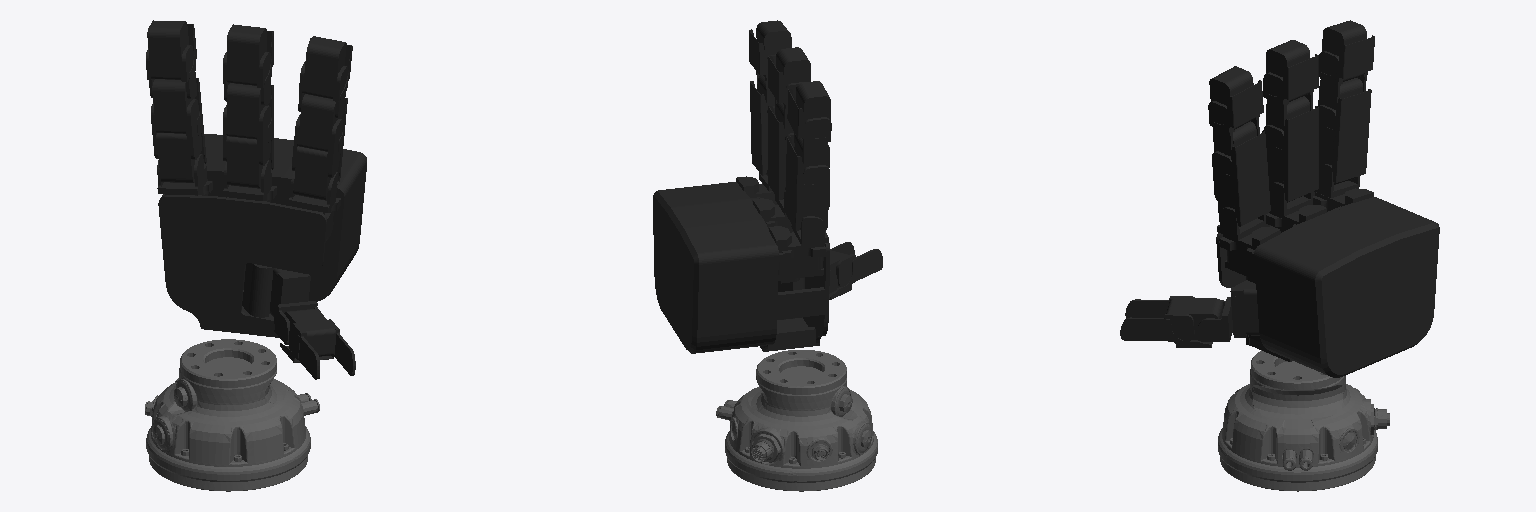
--- What the picture shows (computed from the rendered views, not written in the file) ---
3 views of the same robot in one strip: view 1: azimuth 30°, elevation 25°; view 2: azimuth 150°, elevation 25°; view 3: azimuth 270°, elevation 25° (orthographic).
Model kuka_allegro with 28 links and 27 joints (23 revolute, 4 fixed), rooted at iiwa7_base_link, posed all joints at 0 but 1 set to mid-range because 0 is outside their limits (thumb_joint_0 = 0.925).
Visible links, largest first — view 1: palm_link, iiwa7_link_7, ring_link_1, middle_link_1, index_link_1, thumb_link_2, ring_link_2, middle_link_2, index_link_2, thumb_link_0, middle_link_0, ring_link_0 (+2 smaller); view 2: palm_link, iiwa7_link_7, ring_link_1, ring_link_2, middle_link_2, thumb_link_2, index_link_2, middle_link_1, index_link_1, ring_link_0; view 3: palm_link, iiwa7_link_7, index_link_1, middle_link_1, ring_link_1, thumb_link_2, middle_link_2, ring_link_2, index_link_2, thumb_link_0, thumb_link_1, middle_link_0 (+2 smaller).
Link boxes in pixels (bbox=[...]): palm_link: bbox=[158, 134, 366, 337]; iiwa7_link_7: bbox=[145, 339, 319, 491]; ring_link_1: bbox=[151, 78, 206, 182]; middle_link_1: bbox=[223, 83, 273, 188]; index_link_1: bbox=[292, 94, 347, 200]; thumb_link_2: bbox=[280, 308, 355, 379]; ring_link_2: bbox=[146, 20, 196, 99]; middle_link_2: bbox=[223, 24, 273, 105]; index_link_2: bbox=[298, 36, 352, 118]; thumb_link_0: bbox=[242, 263, 310, 323]; middle_link_0: bbox=[223, 160, 270, 200]; ring_link_0: bbox=[157, 154, 205, 195]; palm_link: bbox=[653, 175, 829, 353]; iiwa7_link_7: bbox=[716, 350, 877, 491]; ring_link_1: bbox=[785, 135, 829, 230]; ring_link_2: bbox=[787, 81, 831, 166]; middle_link_2: bbox=[768, 47, 810, 132]; thumb_link_2: bbox=[829, 242, 882, 299]; index_link_2: bbox=[749, 20, 791, 105]; middle_link_1: bbox=[768, 102, 793, 199]; index_link_1: bbox=[750, 75, 775, 175]; ring_link_0: bbox=[791, 216, 828, 245]; palm_link: bbox=[1216, 184, 1439, 377]; iiwa7_link_7: bbox=[1218, 350, 1389, 491]; index_link_1: bbox=[1212, 121, 1270, 226]; middle_link_1: bbox=[1263, 96, 1318, 202]; ring_link_1: bbox=[1317, 78, 1371, 184]; thumb_link_2: bbox=[1120, 296, 1223, 347]; middle_link_2: bbox=[1263, 40, 1318, 128]; ring_link_2: bbox=[1319, 20, 1374, 108]; index_link_2: bbox=[1208, 66, 1263, 155]; thumb_link_0: bbox=[1230, 280, 1259, 337]; thumb_link_1: bbox=[1197, 297, 1232, 341]; middle_link_0: bbox=[1269, 182, 1312, 215].
Bounding box of the posed robot: 0.165 × 0.2127 × 0.3073 m (x, y, z).
14 mesh visuals loaded from 18 distinct referenced files (8 OBJ); not drawn: 12 (reference not matched to a file when rendering).

URDF robot description (kuka_allegro):
<?xml version="1.0" ?>
<!-- This file was autogenerated but we have modified quite a bit
Authors: Karl, Ankur

Karl did the dynamics compensation and obtained the following values for the index finger

Noise: 0.111576
Masses: 0.005, 0.125164, 0.131691, 0.0211922,
Rotor Inertia: 0.00386572, 0.00346965, 0.00433775, 0.00366413,
Viscous Friction: 0.0414019, 0.00587541, 0.010638, 0.0226948,
Coulomb Friction: 0.0523963, 0.0150275, 0.00616359, 0.0227036,
Mass Inertia:
5.1458e-05, 5.1458e-05, 6.125e-05, 0, 0, 0,
6.39979e-06, 8.88687e-05, 9.13751e-05, -3.26531e-06, 1.23963e-05, 2.07384e-05,
7.04217e-05, 3.95744e-05, 6.61125e-05, -9.64342e-05, 5.8796e-05, -3.62996e-05,
2.93743e-05, 7.21391e-05, 7.59731e-05, -3.51896e-05, -6.31225e-05, -9.25392e-07,

Center of Mass:
0, 0, 0,
0.027, 0, 0,
0.038, 0, 0,
0.029, 0, 0,

-->

<robot name="kuka_allegro" xmlns:xacro="http://www.ros.org/wiki/xacro">
  <material name="Black">
    <color rgba="0.0 0.0 0.0 1.0"/>
  </material>
  <material name="Blue">
    <color rgba="0.0 0.0 0.8 1.0"/>
  </material>
  <material name="Green">
    <color rgba="0.0 0.8 0.0 1.0"/>
  </material>
  <material name="Grey">
    <color rgba="0.4 0.4 0.4 1.0"/>
  </material>
  <material name="Orange">
    <color rgba="1.0 0.423529411765 0.0392156862745 1.0"/>
  </material>
  <material name="Brown">
    <color rgba="0.870588235294 0.811764705882 0.764705882353 1.0"/>
  </material>
  <material name="Red">
    <color rgba="0.8 0.0 0.0 1.0"/>
  </material>
  <material name="White">
    <color rgba="1.0 1.0 1.0 1.0"/>
  </material>
  <link name="iiwa7_base_link"/>
  <!--joint between {parent} and link_0-->
  <joint name="iiwa7_base_link_iiwa7_joint" type="fixed">
    <origin rpy="0 0 0" xyz="0 0 0"/>
    <parent link="iiwa7_base_link"/>
    <child link="iiwa7_link_0"/>
  </joint>
  <link name="iiwa7_link_0">
    <inertial>
      <origin rpy="0 0 0" xyz="-0.1 0 0.07"/>
      <mass value="5"/>
      <inertia ixx="0.05" ixy="0" ixz="0" iyy="0.06" iyz="0" izz="0.03"/>
    </inertial>
    <visual>
      <origin rpy="0 0 0" xyz="0 0 0"/>
      <geometry>
        <mesh filename="kuka_allegro_description/meshes/iiwa7/visual/link_0.obj"/>
      </geometry>
      <material name="Grey"/>
    </visual>
    <collision>
      <origin rpy="0 0 0" xyz="0 0 0"/>
      <geometry>
        <mesh filename="kuka_allegro_description/meshes/iiwa7/collision/link_0.obj"/>
      </geometry>
      <material name="Grey"/>
    </collision>
    <self_collision_checking>
      <origin rpy="0 0 0" xyz="0 0 0"/>
      <geometry>
        <capsule length="0.25" radius="0.15"/>
      </geometry>
    </self_collision_checking>
  </link>
  <!-- joint between link_0 and link_1 -->
  <joint name="iiwa7_joint_1" type="revolute">
    <parent link="iiwa7_link_0"/>
    <child link="iiwa7_link_1"/>
    <origin rpy="0 0 0" xyz="0 0 0.15"/>
    <axis xyz="0 0 1"/>
    <limit effort="300" lower="-2.96705972839" upper="2.96705972839" velocity="10"/>
    <safety_controller k_position="100" k_velocity="2" soft_lower_limit="-2.93215314335" soft_upper_limit="2.93215314335"/>
    <dynamics damping="5.5" friction="0.025"/>
  </joint>
  <link name="iiwa7_link_1">
    <inertial>
      <origin rpy="0 0 0" xyz="0 -0.03 0.12"/>
      <mass value="3.4525"/>
      <inertia ixx="0.02183" ixy="0" ixz="0" iyy="0.007703" iyz="-0.003887" izz="0.02083"/>
    </inertial>
    <visual>
      <origin rpy="0 0 0" xyz="0 0 0.0075"/>
      <geometry>
        <mesh filename="kuka_allegro_description/meshes/iiwa7/visual/link_1.obj"/>
      </geometry>
      <material name="Orange"/>
    </visual>
    <collision>
      <origin rpy="0 0 0" xyz="0 0 0.0075"/>
      <geometry>
        <mesh filename="kuka_allegro_description/meshes/iiwa7/collision/link_1.obj"/>
      </geometry>
      <material name="Orange"/>
    </collision>
  </link>
  <joint name="iiwa7_joint_2" type="revolute">
    <parent link="iiwa7_link_1"/>
    <child link="iiwa7_link_2"/>
    <origin rpy="1.57079632679   0 3.14159265359" xyz="0 0 0.19"/>
    <axis xyz="0 0 1"/>
    <limit effort="300" lower="-2.09439510239" upper="2.09439510239" velocity="10"/>
    <safety_controller k_position="100" k_velocity="2" soft_lower_limit="-2.05948851735" soft_upper_limit="2.05948851735"/>
    <dynamics damping="5.55" friction="0.025"/>
  </joint>
  <link name="iiwa7_link_2">
    <inertial>
      <origin rpy="0 0 0" xyz="0.0003 0.059 0.042"/>
      <mass value="3.4821"/>
      <inertia ixx="0.02076" ixy="0" ixz="-0.003626" iyy="0.02179" iyz="0" izz="0.00779"/>
    </inertial>
    <visual>
      <origin rpy="0 0 0" xyz="0 0 0"/>
      <geometry>
        <mesh filename="kuka_allegro_description/meshes/iiwa7/visual/link_2.obj"/>
      </geometry>
      <material name="Orange"/>
    </visual>
    <collision>
      <origin rpy="0 0 0" xyz="0 0 0"/>
      <geometry>
        <mesh filename="kuka_allegro_description/meshes/iiwa7/collision/link_2.obj"/>
      </geometry>
      <material name="Orange"/>
    </collision>
  </link>
  <joint name="iiwa7_joint_3" type="revolute">
    <parent link="iiwa7_link_2"/>
    <child link="iiwa7_link_3"/>
    <origin rpy="1.57079632679 0 3.14159265359" xyz="0 0.21 0"/>
    <axis xyz="0 0 1"/>
    <limit effort="300" lower="-2.96705972839" upper="2.96705972839" velocity="10"/>
    <safety_controller k_position="100" k_velocity="2" soft_lower_limit="-2.93215314335" soft_upper_limit="2.93215314335"/>
    <dynamics damping="5.5" friction="0.025"/>
  </joint>
  <link name="iiwa7_link_3">
    <inertial>
      <origin rpy="0 0 0" xyz="0 0.03 0.13"/>
      <mass value="4.05623"/>
      <inertia ixx="0.03204" ixy="0" ixz="0" iyy="0.00972" iyz="0.006227" izz="0.03042"/>
    </inertial>
    <visual>
      <origin rpy="0 0 0" xyz="0 0 -0.026"/>
      <geometry>
        <mesh filename="kuka_allegro_description/meshes/iiwa7/visual/link_3.obj"/>
      </geometry>
      <material name="Orange"/>
    </visual>
    <collision>
      <origin rpy="0 0 0" xyz="0 0 -0.026"/>
      <geometry>
        <mesh filename="kuka_allegro_description/meshes/iiwa7/collision/link_3.obj"/>
      </geometry>
      <material name="Orange"/>
    </collision>
  </link>
  <joint name="iiwa7_joint_4" type="revolute">
    <parent link="iiwa7_link_3"/>
    <child link="iiwa7_link_4"/>
    <origin rpy="1.57079632679 0 0" xyz="0 0 0.19"/>
    <axis xyz="0 0 1"/>
    <limit effort="300" lower="-2.09439510239" upper="2.09439510239" velocity="10"/>
    <safety_controller k_position="100" k_velocity="2" soft_lower_limit="-2.05948851735" soft_upper_limit="2.05948851735"/>
    <dynamics damping="5.5" friction="0.025"/>
  </joint>
  <link name="iiwa7_link_4">
    <inertial>
      <origin rpy="0 0 0" xyz="0 0.067 0.034"/>
      <mass value="3.4822"/>
      <inertia ixx="0.02178" ixy="0" ixz="0" iyy="0.02075" iyz="-0.003625" izz="0.007785"/>
    </inertial>
    <visual>
      <origin rpy="0 0 0" xyz="0 0 0"/>
      <geometry>
        <mesh filename="kuka_allegro_description/meshes/iiwa7/visual/link_4.obj"/>
      </geometry>
      <material name="Orange"/>
    </visual>
    <collision>
      <origin rpy="0 0 0" xyz="0 0 0"/>
      <geometry>
        <mesh filename="kuka_allegro_description/meshes/iiwa7/collision/link_4.obj"/>
      </geometry>
      <material name="Orange"/>
    </collision>
  </link>
  <joint name="iiwa7_joint_5" type="revolute">
    <parent link="iiwa7_link_4"/>
    <child link="iiwa7_link_5"/>
    <origin rpy="-1.57079632679 3.14159265359 0" xyz="0 0.21 0"/>
    <axis xyz="0 0 1"/>
    <limit effort="300" lower="-2.96705972839" upper="2.96705972839" velocity="10"/>
    <safety_controller k_position="100" k_velocity="2" soft_lower_limit="-2.93215314335" soft_upper_limit="2.93215314335"/>
    <dynamics damping="5.5" friction="0.025"/>
  </joint>
  <link name="iiwa7_link_5">
    <inertial>
      <origin rpy="0 0 0" xyz="0.0001 0.021 0.076"/>
      <mass value="2.1633"/>
      <inertia ixx="0.01287" ixy="0" ixz="0" iyy="0.005708" iyz="-0.003946" izz="0.01112"/>
    </inertial>
    <visual>
      <origin rpy="0 0 0" xyz="0 0 -0.026"/>
      <geometry>
        <mesh filename="kuka_allegro_description/meshes/iiwa7/visual/link_5.obj"/>
      </geometry>
      <material name="Orange"/>
    </visual>
    <collision>
      <origin rpy="0 0 0" xyz="0 0 -0.026"/>
      <geometry>
        <mesh filename="kuka_allegro_description/meshes/iiwa7/collision/link_5.obj"/>
      </geometry>
      <material name="Orange"/>
    </collision>
  </link>
  <joint name="iiwa7_joint_6" type="revolute">
    <parent link="iiwa7_link_5"/>
    <child link="iiwa7_link_6"/>
    <origin rpy="1.57079632679 0 0" xyz="0 0.06070 0.19"/>
    <axis xyz="0 0 1"/>
    <limit effort="300" lower="-2.09439510239" upper="2.09439510239" velocity="10"/>
    <safety_controller k_position="100" k_velocity="2" soft_lower_limit="-2.05948851735" soft_upper_limit="2.05948851735"/>
    <dynamics damping="0.5" friction="0.025"/>
  </joint>
  <link name="iiwa7_link_6">
    <inertial>
      <origin rpy="0 0 0" xyz="0 0.0006 0.0004"/>
      <mass value="2.3466"/>
      <inertia ixx="0.006509" ixy="0" ixz="0" iyy="0.006259" iyz="0.00031891" izz="0.004527"/>
    </inertial>
    <visual>
      <origin rpy="0 0 0" xyz="0 0 0"/>
      <geometry>
        <mesh filename="kuka_allegro_description/meshes/iiwa7/visual/link_6.obj"/>
      </geometry>
      <material name="Orange"/>
    </visual>
    <collision>
      <origin rpy="0 0 0" xyz="0 0 0"/>
      <geometry>
        <mesh filename="kuka_allegro_description/meshes/iiwa7/collision/link_6.obj"/>
      </geometry>
      <material name="Orange"/>
    </collision>
  </link>
  <joint name="iiwa7_joint_7" type="revolute">
    <parent link="iiwa7_link_6"/>
    <child link="iiwa7_link_7"/>
    <origin rpy="-1.57079632679 3.14159265359 0" xyz="0 0.081 0.06070"/>
    <axis xyz="0 0 1"/>
    <limit effort="300" lower="-3.05432619099" upper="3.05432619099" velocity="10"/>
    <safety_controller k_position="100" k_velocity="2" soft_lower_limit="-3.01941960595" soft_upper_limit="3.01941960595"/>
    <dynamics damping="5.5" friction="0.025"/>
  </joint>
  <link name="iiwa7_link_7">
    <inertial>
      <origin rpy="0 0 0" xyz="0 0 0.02"/>
      <mass value="3.129"/>
      <inertia ixx="0.01464" ixy="0.0005912" ixz="0" iyy="0.01465" iyz="0" izz="0.002872"/>
    </inertial>
    <visual>
      <origin rpy="0 0 0" xyz="0 0 -0.0005"/>
      <geometry>
        <mesh filename="kuka_allegro_description/meshes/iiwa7/visual/link_7.obj"/>
      </geometry>
      <material name="Grey"/>
    </visual>
    <collision>
      <origin rpy="0 0 0" xyz="0 0 -0.0005"/>
      <geometry>
        <mesh filename="kuka_allegro_description/meshes/iiwa7/collision/link_7.obj"/>
      </geometry>
      <material name="Grey"/>
    </collision>
  </link>
  <joint name="iiwa7_joint_ee" type="fixed">
    <parent link="iiwa7_link_7"/>
    <child link="iiwa7_link_ee"/>
    <origin rpy="0 0 0" xyz="0 0 0.071"/>
    <dynamics damping="5.5" friction="0.025"/>
  </joint>
  <link name="iiwa7_link_ee">
    <inertial>
      <origin rpy="0 0 0" xyz="0 0 0.0"/>
      <mass value="0.1"/>
      <inertia ixx="1e-3" ixy="0.0" ixz="0" iyy="1e-3" iyz="0" izz="1e-3"/>
    </inertial>
  </link>

  <!-- Load Gazebo lib and set the robot namespace -->
  <!-- <gazebo>
      <plugin name="gazebo_ros_control" filename="libgazebo_ros_control.so">
        <robotNamespace>/${robot_name}</robotNamespace>
      </plugin>
    </gazebo> -->
  <!-- Link0 -->
  <gazebo reference="iiwa7_link_0">
    <material>Gazebo/Grey</material>
    <mu1>0.2</mu1>
    <mu2>0.2</mu2>
  </gazebo>
  <!-- Link1 -->
  <gazebo reference="iiwa7_link_1">
    <material>Gazebo/Orange</material>
    <mu1>0.2</mu1>
    <mu2>0.2</mu2>
  </gazebo>
  <!-- Link2 -->
  <gazebo reference="iiwa7_link_2">
    <material>Gazebo/Orange</material>
    <mu1>0.2</mu1>
    <mu2>0.2</mu2>
  </gazebo>
  <!-- Link3 -->
  <gazebo reference="iiwa7_link_3">
    <material>Gazebo/Orange</material>
    <mu1>0.2</mu1>
    <mu2>0.2</mu2>
  </gazebo>
  <!-- Link4 -->
  <gazebo reference="iiwa7_link_4">
    <material>Gazebo/Orange</material>
    <mu1>0.2</mu1>
    <mu2>0.2</mu2>
  </gazebo>
  <!-- Link5 -->
  <gazebo reference="iiwa7_link_5">
    <material>Gazebo/Orange</material>
    <mu1>0.2</mu1>
    <mu2>0.2</mu2>
  </gazebo>
  <!-- Link6 -->
  <gazebo reference="iiwa7_link_6">
    <material>Gazebo/Orange</material>
    <mu1>0.2</mu1>
    <mu2>0.2</mu2>
  </gazebo>
  <!-- Link7 -->
  <gazebo reference="iiwa7_link_7">
    <material>Gazebo/Grey</material>
    <mu1>0.2</mu1>
    <mu2>0.2</mu2>
  </gazebo>
  <transmission name="iiwa7_tran_1">
    <robotNamespace>/iiwa7</robotNamespace>
    <type>transmission_interface/SimpleTransmission</type>
    <joint name="iiwa7_joint_1">
      <hardwareInterface>PositionJointInterface</hardwareInterface>
    </joint>
    <actuator name="iiwa7_motor_1">
      <hardwareInterface>PositionJointInterface</hardwareInterface>
      <mechanicalReduction>1</mechanicalReduction>
    </actuator>
  </transmission>
  <transmission name="iiwa7_tran_2">
    <robotNamespace>/iiwa7</robotNamespace>
    <type>transmission_interface/SimpleTransmission</type>
    <joint name="iiwa7_joint_2">
      <hardwareInterface>PositionJointInterface</hardwareInterface>
    </joint>
    <actuator name="iiwa7_motor_2">
      <hardwareInterface>PositionJointInterface</hardwareInterface>
      <mechanicalReduction>1</mechanicalReduction>
    </actuator>
  </transmission>
  <transmission name="iiwa7_tran_3">
    <robotNamespace>/iiwa7</robotNamespace>
    <type>transmission_interface/SimpleTransmission</type>
    <joint name="iiwa7_joint_3">
      <hardwareInterface>PositionJointInterface</hardwareInterface>
    </joint>
    <actuator name="iiwa7_motor_3">
      <hardwareInterface>PositionJointInterface</hardwareInterface>
      <mechanicalReduction>1</mechanicalReduction>
    </actuator>
  </transmission>
  <transmission name="iiwa7_tran_4">
    <robotNamespace>/iiwa7</robotNamespace>
    <type>transmission_interface/SimpleTransmission</type>
    <joint name="iiwa7_joint_4">
      <hardwareInterface>PositionJointInterface</hardwareInterface>
    </joint>
    <actuator name="iiwa7_motor_4">
      <hardwareInterface>PositionJointInterface</hardwareInterface>
      <mechanicalReduction>1</mechanicalReduction>
    </actuator>
  </transmission>
  <transmission name="iiwa7_tran_5">
    <robotNamespace>/iiwa7</robotNamespace>
    <type>transmission_interface/SimpleTransmission</type>
    <joint name="iiwa7_joint_5">
      <hardwareInterface>PositionJointInterface</hardwareInterface>
    </joint>
    <actuator name="iiwa7_motor_5">
      <hardwareInterface>PositionJointInterface</hardwareInterface>
      <mechanicalReduction>1</mechanicalReduction>
    </actuator>
  </transmission>
  <transmission name="iiwa7_tran_6">
    <robotNamespace>/iiwa7</robotNamespace>
    <type>transmission_interface/SimpleTransmission</type>
    <joint name="iiwa7_joint_6">
      <hardwareInterface>PositionJointInterface</hardwareInterface>
    </joint>
    <actuator name="iiwa7_motor_6">
      <hardwareInterface>PositionJointInterface</hardwareInterface>
      <mechanicalReduction>1</mechanicalReduction>
    </actuator>
  </transmission>
  <transmission name="iiwa7_tran_7">
    <robotNamespace>/iiwa7</robotNamespace>
    <type>transmission_interface/SimpleTransmission</type>
    <joint name="iiwa7_joint_7">
      <hardwareInterface>PositionJointInterface</hardwareInterface>
    </joint>
    <actuator name="iiwa7_motor_7">
      <hardwareInterface>PositionJointInterface</hardwareInterface>
      <mechanicalReduction>1</mechanicalReduction>
    </actuator>
  </transmission>
  <!-- ======================== BASE PARAMS ========================= -->
  <!-- ======================== FINGER PARAMS ======================== -->
  <!-- full height from joint to tip. when used,
       the radius of the finger tip sphere will be subtracted
       and one fixed link will be added for the tip. -->
  <!-- ========================= THUMB PARAMS ========================= -->
  <!-- ========================= LIMITS ========================= -->
  <!-- ============================================================================= -->
  <!-- BASE -->

  <link name="allegro_mount">
    <inertial>
      <mass value="0.05"/>
      <origin rpy="0 0 0" xyz="0 0 0"/>
      <inertia ixx="1e-4" ixy="0" ixz="0" iyy="1e-4" iyz="0" izz="1e-4"/>
    </inertial>
    <visual>
      <!-- <origin xyz="-0.0425 -0.0425 0" rpy="0 0 0" /> -->
      <origin rpy="0 0 0" xyz="0 0 0"/>
      <geometry>
        <mesh filename="kuka_allegro_description/meshes/mounts/allegro_mount.obj"/>
      </geometry>
      <material name="color_j7"/>
    </visual>
    <collision>
      <!-- <origin xyz="-0.0425 -0.0425 0" rpy="0 0 0" /> -->
      <origin rpy="0 0 0" xyz="0 0 0"/>
      <geometry>
        <mesh filename="kuka_allegro_description/meshes/mounts/allegro_mount.obj"/>
      </geometry>
    </collision>
  </link>
  <!-- <joint name="allegro_mount_joint1" type="fixed">

    <origin rpy="0 0 0" xyz="-0.00 -0.0 0.0"/>
    <parent link="iiwa7_link_ee"/>
    <child link="allegro_mount"/>

  </joint> -->
  <joint name="allegro_mount_joint" type="fixed">
    <!-- <origin xyz="0.065 0 0.0275" rpy="0 1.57 0" /> -->
    <origin rpy="0 -1.5708 0.785398" xyz="0.008219 -0.02063 0.08086"/>
    <parent link="allegro_mount"/>
    <child link="palm_link"/>

  </joint>

  <!-- BASE -->
  <link name="palm_link">
    <inertial>
      <mass value="0.4154"/>
      <origin rpy="0 0 0" xyz="0 0 0"/>
      <inertia ixx="1e-4" ixy="0" ixz="0" iyy="1e-4" iyz="0" izz="1e-4"/>
    </inertial>
    <visual>
      <geometry>
        <mesh filename="kuka_allegro_description/meshes/allegro/base_link.obj"/>
      </geometry>
      <origin rpy="0 0 0" xyz="0 0 0 "/>
      <material name="Grey">
        <color rgba="0.2 0.2 0.2 1"/>
      </material>
    </visual>
    <collision>
      <origin rpy="0.0 0 0" xyz="0 0 0"/>
      <geometry>
        <mesh filename="kuka_allegro_description/meshes/allegro/base_link.obj"/>
      </geometry>
    </collision>
  </link>
  <gazebo reference="palm_link">
    <material value="Gazebo/Grey"/>
  </gazebo>
  <!-- ============================================================================= -->
  <!-- FINGERS -->
  <!-- RIGHT HAND due to which finger is number 0 -->
  <!-- for LEFT HAND switch the sign of the **offset_origin_y** and **finger_angle_r** parameters-->
  <!-- [LINK 0, 4, 8] -->
  <link name="index_link_0">
    <collision>
      <geometry>
        <mesh filename="kuka_allegro_description/meshes/allegro/primary_base.obj"/>
      </geometry>
    </collision>
    <inertial>
      <mass value="0.005"/>
      <origin xyz="0 0 0"/>
      <inertia ixx="5.1458e-05" iyy="5.1458e-05" izz="6.125e-05" ixy="0" ixz="0" iyz="0"/>
    </inertial>
    <visual>
      <geometry>
        <mesh filename="kuka_allegro_description/meshes/allegro/primary_base.obj"/>
      </geometry>
      <material name="Grey">
        <color rgba="0.2 0.2 0.2 1"/>
      </material>
    </visual>
  </link>
  <link name="index_link_1">
    <collision>
      <geometry>
        <mesh filename="kuka_allegro_description/meshes/allegro/primary_proximal.obj"/>
      </geometry>
    </collision>
    <inertial>
      <mass value="0.125164"/>
      <origin xyz="0.027 0 0"/>
      <inertia ixx="6.39979e-06" iyy="8.88687e-05" izz="9.13751e-05" ixy="-3.26531e-06" ixz="1.23963e-05" iyz="2.07384e-05"/>
    </inertial>
    <visual>
      <geometry>
        <mesh filename="kuka_allegro_description/meshes/allegro/primary_proximal.obj"/>
      </geometry>
      <material name="Grey">
        <color rgba="0.2 0.2 0.2 1"/>
      </material>
    </visual>
  </link>
  <link name="index_link_2">
    <collision>
      <geometry>
        <mesh filename="kuka_allegro_description/meshes/allegro/primary_medial.obj"/>
      </geometry>
    </collision>
    <inertial>
      <mass value="0.131691"/>
      <origin xyz="0.039 0 0"/>
      <inertia ixx="7.04217e-05" iyy="3.95744e-05" izz="6.61125e-05" ixy="-9.64342e-05" ixz="5.8796e-05" iyz="-3.62996e-05"/>
    </inertial>
    <visual>
      <geometry>
        <mesh filename="kuka_allegro_description/meshes/allegro/primary_medial.obj"/>
      </geometry>
      <material name="Grey">
        <color rgba="0.2 0.2 0.2 1"/>
      </material>
    </visual>
  </link>
  <link name="index_link_3">
    <collision>
      <geometry>
        <mesh filename="meshes/touchsensor/collision/touch_sensor_base.obj"/>
      </geometry>
    </collision>
    <inertial>
      <mass value="0.0211922"/>
      <origin xyz="0.029 0 0"/>
      <inertia ixx="2.93743e-05" iyy="7.21391e-05" izz="7.59731e-05" ixy="-3.51896e-05" ixz="-6.31225e-05" iyz="-9.25392e-07"/>
    </inertial>
    <visual>
      <geometry>
        <mesh filename="meshes/touchsensor/visual/touch_sensor_base.obj"/>
      </geometry>
      <material name="Green">
        <color rgba="0. 0.5 0. 1"/>
      </material>
    </visual>
  </link>
  <link name="middle_link_0">
    <collision>
      <geometry>
        <mesh filename="kuka_allegro_description/meshes/allegro/primary_base.obj"/>
      </geometry>
    </collision>
    <inertial>
      <mass value="0.005"/>
      <origin xyz="0 0 0"/>
      <inertia ixx="5.1458e-05" iyy="5.1458e-05" izz="6.125e-05" ixy="0" ixz="0" iyz="0"/>
    </inertial>
    <visual>
      <geometry>
        <mesh filename="kuka_allegro_description/meshes/allegro/primary_base.obj"/>
      </geometry>
      <material name="Grey">
        <color rgba="0.2 0.2 0.2 1"/>
      </material>
    </visual>
  </link>
  <link name="middle_link_1">
    <collision>
      <geometry>
        <mesh filename="kuka_allegro_description/meshes/allegro/primary_proximal.obj"/>
      </geometry>
    </collision>
    <inertial>
      <mass value="0.125164"/>
      <origin xyz="0.027 0 0"/>
      <inertia ixx="6.39979e-06" iyy="8.88687e-05" izz="9.13751e-05" ixy="-3.26531e-06" ixz="1.23963e-05" iyz="2.07384e-05"/>
    </inertial>
    <visual>
      <geometry>
        <mesh filename="kuka_allegro_description/meshes/allegro/primary_proximal.obj"/>
      </geometry>
      <material name="Grey">
        <color rgba="0.2 0.2 0.2 1"/>
      </material>
    </visual>
  </link>
  <link name="middle_link_2">
    <collision>
      <geometry>
        <mesh filename="kuka_allegro_description/meshes/allegro/primary_medial.obj"/>
      </geometry>
    </collision>
    <inertial>
      <mass value="0.131691"/>
      <origin xyz="0.039 0 0"/>
      <inertia ixx="7.04217e-05" iyy="3.95744e-05" izz="6.61125e-05" ixy="-9.64342e-05" ixz="5.8796e-05" iyz="-3.62996e-05"/>
    </inertial>
    <visual>
      <geometry>
        <mesh filename="kuka_allegro_description/meshes/allegro/primary_medial.obj"/>
      </geometry>
      <material name="Grey">
        <color rgba="0.2 0.2 0.2 1"/>
      </material>
    </visual>
  </link>
  <link name="middle_link_3">
    <collision>
      <geometry>
        <mesh filename="meshes/touchsensor/collision/touch_sensor_base.obj"/>
      </geometry>
    </collision>
    <inertial>
      <mass value="0.0211922"/>
      <origin xyz="0.029 0 0"/>
      <inertia ixx="2.93743e-05" iyy="7.21391e-05" izz="7.59731e-05" ixy="-3.51896e-05" ixz="-6.31225e-05" iyz="-9.25392e-07"/>
    </inertial>
    <visual>
      <geometry>
        <mesh filename="meshes/touchsensor/visual/touch_sensor_base.obj"/>
      </geometry>
      <material name="Green">
        <color rgba="0 0.5 0 1"/>
      </material>
    </visual>
  </link>
  <link name="ring_link_0">
    <collision>
      <geometry>
        <mesh filename="kuka_allegro_description/meshes/allegro/primary_base.obj"/>
      </geometry>
    </collision>
    <inertial>
      <mass value="0.005"/>
      <origin xyz="0 0 0"/>
      <inertia ixx="5.1458e-05" iyy="5.1458e-05" izz="6.125e-05" ixy="0" ixz="0" iyz="0"/>
    </inertial>
    <visual>
      <geometry>
        <mesh filename="kuka_allegro_description/meshes/allegro/primary_base.obj"/>
      </geometry>
      <material name="Grey">
        <color rgba="0.2 0.2 0.2 1"/>
      </material>
    </visual>
  </link>
  <link name="ring_link_1">
    <collision>
      <geometry>
        <mesh filename="kuka_allegro_description/meshes/allegro/primary_proximal.obj"/>
      </geometry>
    </collision>
    <inertial>
      <mass value="0.125164"/>
      <origin xyz="0.027 0 0"/>
      <inertia ixx="6.39979e-06" iyy="8.88687e-05" izz="9.13751e-05" ixy="-3.26531e-06" ixz="1.23963e-05" iyz="2.07384e-05"/>
    </inertial>
    <visual>
      <geometry>
        <mesh filename="kuka_allegro_description/meshes/allegro/primary_proximal.obj"/>
      </geometry>
      <material name="Grey">
        <color rgba="0.2 0.2 0.2 1"/>
      </material>
    </visual>
  </link>
  <link name="ring_link_2">
    <collision>
      <geometry>
        <mesh filename="kuka_allegro_description/meshes/allegro/primary_medial.obj"/>
      </geometry>
    </collision>
    <inertial>
      <mass value="0.131691"/>
      <origin xyz="0.039 0 0"/>
      <inertia ixx="7.04217e-05" iyy="3.95744e-05" izz="6.61125e-05" ixy="-9.64342e-05" ixz="5.8796e-05" iyz="-3.62996e-05"/>
    </inertial>
    <visual>
      <geometry>
        <mesh filename="kuka_allegro_description/meshes/allegro/primary_medial.obj"/>
      </geometry>
      <material name="Grey">
        <color rgba="0.2 0.2 0.2 1"/>
      </material>
    </visual>
  </link>
  <link name="ring_link_3">
    <collision>
      <geometry>
        <mesh filename="meshes/touchsensor/collision/touch_sensor_base.obj"/>
      </geometry>
    </collision>
    <inertial>
      <mass value="0.0211922"/>
      <origin xyz="0.029 0 0"/>
      <inertia ixx="2.93743e-05" iyy="7.21391e-05" izz="7.59731e-05" ixy="-3.51896e-05" ixz="-6.31225e-05" iyz="-9.25392e-07"/>
    </inertial>
    <visual>
      <geometry>
        <mesh filename="meshes/touchsensor/visual/touch_sensor_base.obj"/>
      </geometry>
      <material name="Green">
        <color rgba="0 0.5 0 1"/>
      </material>
    </visual>
  </link>
  <link name="thumb_link_0">
    <collision>
      <geometry>
        <mesh filename="kuka_allegro_description/meshes/allegro/thumb_base.obj"/>
      </geometry>
    </collision>
    <inertial>
      <mass value="0.1"/>
      <inertia ixx="5.1458e-5" ixy="0" ixz="0" iyy="5.1458e-5" iyz="0" izz="6.125e-5"/>
    </inertial>
    <visual>
      <geometry>
        <mesh filename="kuka_allegro_description/meshes/allegro/thumb_base.obj"/>
      </geometry>
      <material name="Grey">
        <color rgba="0.2 0.2 0.2 1"/>
      </material>
    </visual>
  </link>
  <link name="thumb_link_1">
    <collision>
      <geometry>
        <mesh filename="kuka_allegro_description/meshes/allegro/thumb_proximal.obj"/>
      </geometry>
    </collision>
    <inertial>
      <mass value="0.1"/>
      <inertia ixx="5.1458e-5" ixy="0" ixz="0" iyy="5.1458e-5" iyz="0" izz="6.125e-5"/>
    </inertial>
    <visual>
      <geometry>
        <mesh filename="kuka_allegro_description/meshes/allegro/thumb_proximal.obj"/>
      </geometry>
      <material name="Grey">
        <color rgba="0.2 0.2 0.2 1"/>
      </material>
    </visual>
  </link>
  <link name="thumb_link_2">
    <collision>
      <geometry>
        <mesh filename="kuka_allegro_description/meshes/allegro/thumb_medial.obj"/>
      </geometry>
    </collision>
    <inertial>
      <mass value="0.1"/>
      <inertia ixx="5.1458e-5" ixy="0" ixz="0" iyy="5.1458e-5" iyz="0" izz="6.125e-5"/>
    </inertial>
    <visual>
      <geometry>
        <mesh filename="kuka_allegro_description/meshes/allegro/thumb_medial.obj"/>
      </geometry>
      <material name="Grey">
        <color rgba="0.2 0.2 0.2 1"/>
      </material>
    </visual>
  </link>
  <link name="thumb_link_3">
    <collision>
      <geometry>
        <mesh filename="meshes/touchsensor/collision/touch_sensor_thumb_base.obj"/>
      </geometry>
    </collision>
    <inertial>
      <mass value="0.1"/>
      <inertia ixx="5.1458e-5" ixy="0" ixz="0" iyy="5.1458e-5" iyz="0" izz="6.125e-5"/>
    </inertial>
    <visual>
      <geometry>
        <mesh filename="meshes/touchsensor/visual/touch_sensor_thumb_base.obj"/>
      </geometry>
      <material name="Green">
        <color rgba="0 0.5 0 1"/>
      </material>
    </visual>
  </link>
  <joint name="index_joint_0" type="revolute">
    <axis xyz="0 0 1"/>
    <limit effort="0.35" lower="-0.558488888889" upper="0.558488888889" velocity="6.283"/>
    <origin rpy="3.1415 -1.57075 -0.0872638888889" xyz="0.0514302 -0.03632 -0.0113"/>
    <parent link="palm_link"/>
    <child link="index_link_0"/>
    <dynamics damping="0.0414019" friction="0.0523963"/>
  </joint>
  <joint name="index_joint_1" type="revolute">
    <axis xyz="0 0 1"/>
    <limit effort="0.35" lower="-0.279244444444" upper="1.727825" velocity="6.283"/>
    <origin rpy="3.1415 -1.57075 1.57075" xyz="0.0 0.0 0.0"/>
    <parent link="index_link_0"/>
    <child link="index_link_1"/>
    <dynamics damping="0.00587541" friction="0.0150275"/>
  </joint>
  <joint name="index_joint_2" type="revolute">
    <axis xyz="0 0 1"/>
    <limit effort="0.35" lower="-0.279244444444" upper="1.727825" velocity="6.283"/>
    <origin rpy="0.0 0.0 0.0" xyz="0.054 0.0 0.0"/>
    <parent link="index_link_1"/>
    <child link="index_link_2"/>
    <dynamics damping="0.010638" friction="0.00616359"/>
  </joint>
  <joint name="index_joint_3" type="revolute">
    <axis xyz="0 0 1"/>
    <limit effort="0.35" lower="-0.279244444444" upper="1.727825" velocity="6.283"/>
    <origin rpy="0.0 0.0 0.0" xyz="0.0384 0.0 0.0"/>
    <parent link="index_link_2"/>
    <child link="index_link_3"/>
    <dynamics damping="0.0226948" friction="0.0227036"/>
  </joint>
  <joint name="middle_joint_0" type="revolute">
    <axis xyz="0 0 1"/>
    <limit effort="0.35" lower="-0.558488888889" upper="0.558488888889" velocity="6.283"/>
    <origin rpy="3.1415 -1.57075 0" xyz="0.0537375 0.0087771 -0.0113"/>
    <parent link="palm_link"/>
    <child link="middle_link_0"/>
    <dynamics damping="0.0414019" friction="0.0523963"/>
  </joint>
  <joint name="middle_joint_1" type="revolute">
    <axis xyz="0 0 1"/>
    <limit effort="0.35" lower="-0.279244444444" upper="1.727825" velocity="6.283"/>
    <origin rpy="3.1415 -1.57075 1.57075" xyz="0.0 0.0 0.0"/>
    <parent link="middle_link_0"/>
    <child link="middle_link_1"/>
    <dynamics damping="0.00587541" friction="0.0150275"/>
  </joint>
  <joint name="middle_joint_2" type="revolute">
    <axis xyz="0 0 1"/>
    <limit effort="0.35" lower="-0.279244444444" upper="1.727825" velocity="6.283"/>
    <origin rpy="0.0 0.0 0.0" xyz="0.054 0.0 0.0"/>
    <parent link="middle_link_1"/>
    <child link="middle_link_2"/>
    <dynamics damping="0.010638" friction="0.00616359"/>
  </joint>
  <joint name="middle_joint_3" type="revolute">
    <axis xyz="0 0 1"/>
    <limit effort="0.35" lower="-0.279244444444" upper="1.727825" velocity="6.283"/>
    <origin rpy="0.0 0.0 0.0" xyz="0.0384 0.0 0.0"/>
    <parent link="middle_link_2"/>
    <child link="middle_link_3"/>
    <dynamics damping="0.0226948" friction="0.0227036"/>
  </joint>
  <joint name="ring_joint_0" type="revolute">
    <axis xyz="0 0 1"/>
    <limit effort="0.35" lower="-0.558488888889" upper="0.558488888889" velocity="6.283"/>
    <origin rpy="3.1415 -1.57075 0.0872638888889" xyz="0.0514302 0.0538749 -0.0113"/>
    <parent link="palm_link"/>
    <child link="ring_link_0"/>
    <dynamics damping="0.0414019" friction="0.0523963"/>
  </joint>
  <joint name="ring_joint_1" type="revolute">
    <axis xyz="0 0 1"/>
    <limit effort="0.35" lower="-0.279244444444" upper="1.727825" velocity="6.283"/>
    <origin rpy="3.1415 -1.57075 1.57075" xyz="0.0 0.0 0.0"/>
    <parent link="ring_link_0"/>
    <child link="ring_link_1"/>
    <dynamics damping="0.00587541" friction="0.0150275"/>
  </joint>
  <joint name="ring_joint_2" type="revolute">
    <axis xyz="0 0 1"/>
    <limit effort="0.35" lower="-0.279244444444" upper="1.727825" velocity="6.283"/>
    <origin rpy="0.0 0.0 0.0" xyz="0.054 0.0 0.0"/>
    <parent link="ring_link_1"/>
    <child link="ring_link_2"/>
    <dynamics damping="0.010638" friction="0.00616359"/>
  </joint>
  <joint name="ring_joint_3" type="revolute">
    <axis xyz="0 0 1"/>
    <limit effort="0.35" lower="-0.279244444444" upper="1.727825" velocity="6.283"/>
    <origin rpy="0.0 0.0 0.0" xyz="0.0384 0.0 0.0"/>
    <parent link="ring_link_2"/>
    <child link="ring_link_3"/>
    <dynamics damping="0.0226948" friction="0.0227036"/>
  </joint>
  <joint name="thumb_joint_0" type="revolute">
    <axis xyz="0 0 1"/>
    <limit effort="0.35" lower="0.279244444444" upper="1.57075" velocity="6.283"/>
    <origin rpy="-1.57075 -1.57075 1.48348611111" xyz="-0.0367482 -0.0081281 -0.0295"/>
    <parent link="palm_link"/>
    <child link="thumb_link_0"/>
    <dynamics friction="0.035"/>
  </joint>
  <joint name="thumb_joint_1" type="revolute">
    <axis xyz="0 0 1"/>
    <limit effort="0.35" lower="-0.331602777778" upper="1.15188333333" velocity="6.283"/>
    <origin rpy="1.57075 0 0" xyz="0.005 0.0 0.0"/>
    <parent link="thumb_link_0"/>
    <child link="thumb_link_1"/>
    <dynamics friction="0.035"/>
  </joint>
  <joint name="thumb_joint_2" type="revolute">
    <axis xyz="0 0 1"/>
    <limit effort="0.35" lower="-0.279244444444" upper="1.727825" velocity="6.283"/>
    <origin rpy="3.1415 -1.57075 0.0" xyz="0 0 0.0554"/>
    <parent link="thumb_link_1"/>
    <child link="thumb_link_2"/>
    <dynamics friction="0.035"/>
  </joint>
  <joint name="thumb_joint_3" type="revolute">
    <axis xyz="0 0 1"/>
    <limit effort="0.35" lower="-0.279244444444" upper="1.76273055556" velocity="6.283"/>
    <origin rpy="0.0 0.0 0.0" xyz="0.0514 0.0 0.0"/>
    <parent link="thumb_link_2"/>
    <child link="thumb_link_3"/>
    <dynamics friction="0.035"/>
  </joint>
  <!-- ============================================================================= -->

  <!-- Create a different *root* for the allegro hand -->
  <!-- Note: this offset is just eyeballed... -->
  <joint name="iiwa7_allegro" type="fixed">
    <parent link="iiwa7_link_ee"/>
    <child link="allegro_mount"/>
    <origin rpy="0 0 0" xyz="0 0 0"/>
  </joint>

</robot>
